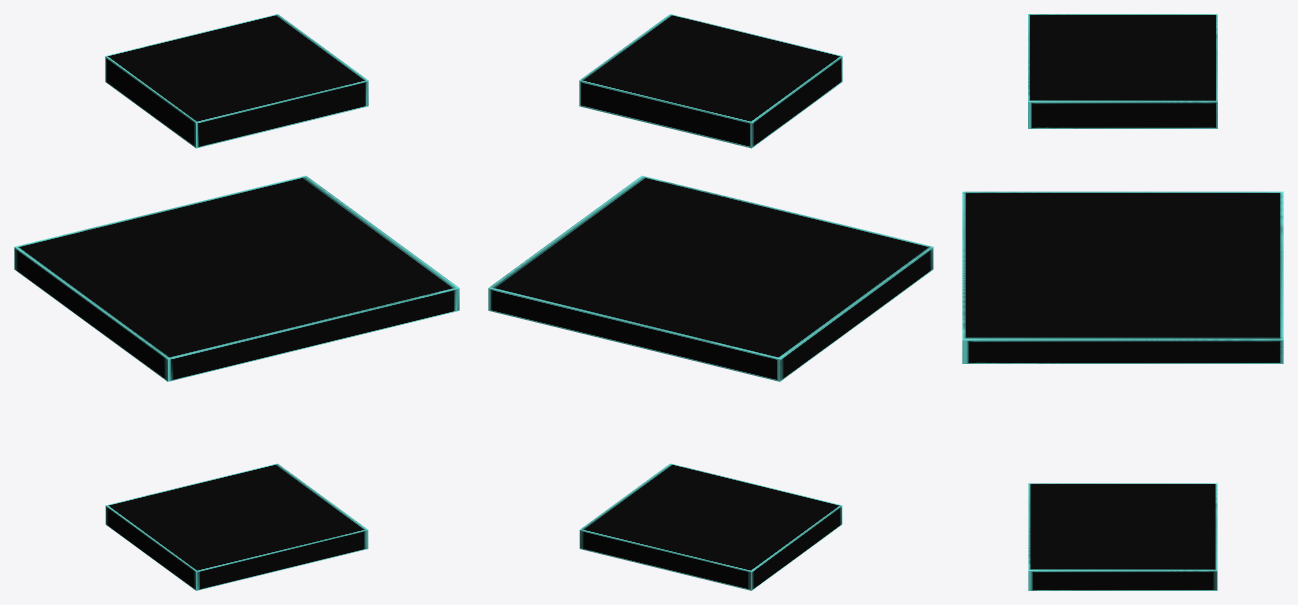
File: CH_Model_Head.fbx
3 renders of one model, left to right at view 1: azimuth 30°, elevation 25°; view 2: azimuth 150°, elevation 25°; view 3: azimuth 270°, elevation 25°, orthographic. The views are drawn at different scales.
Parts seen in each view (by area): view 1: CH_Head_Mesh; view 2: CH_Head_Mesh; view 3: CH_Head_Mesh.
Part boxes in pixels (x1,y1,x2,y2): CH_Head_Mesh: (14,14,459,590); CH_Head_Mesh: (488,14,933,590); CH_Head_Mesh: (962,14,1283,590).
Size of the model in its own units: 0.7537 by 1.16 by 0.6875.
